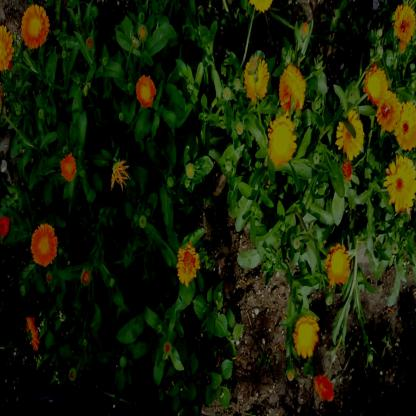marigold: (271, 112, 296, 162), (388, 158, 412, 208), (246, 56, 270, 102), (376, 90, 400, 136), (363, 62, 388, 105), (280, 66, 304, 110), (23, 6, 48, 48), (32, 223, 56, 266), (177, 244, 199, 288), (336, 116, 361, 154), (296, 317, 319, 357), (328, 247, 350, 288), (135, 73, 156, 108), (400, 99, 415, 146), (314, 370, 334, 404), (396, 5, 414, 42), (58, 150, 78, 181)
